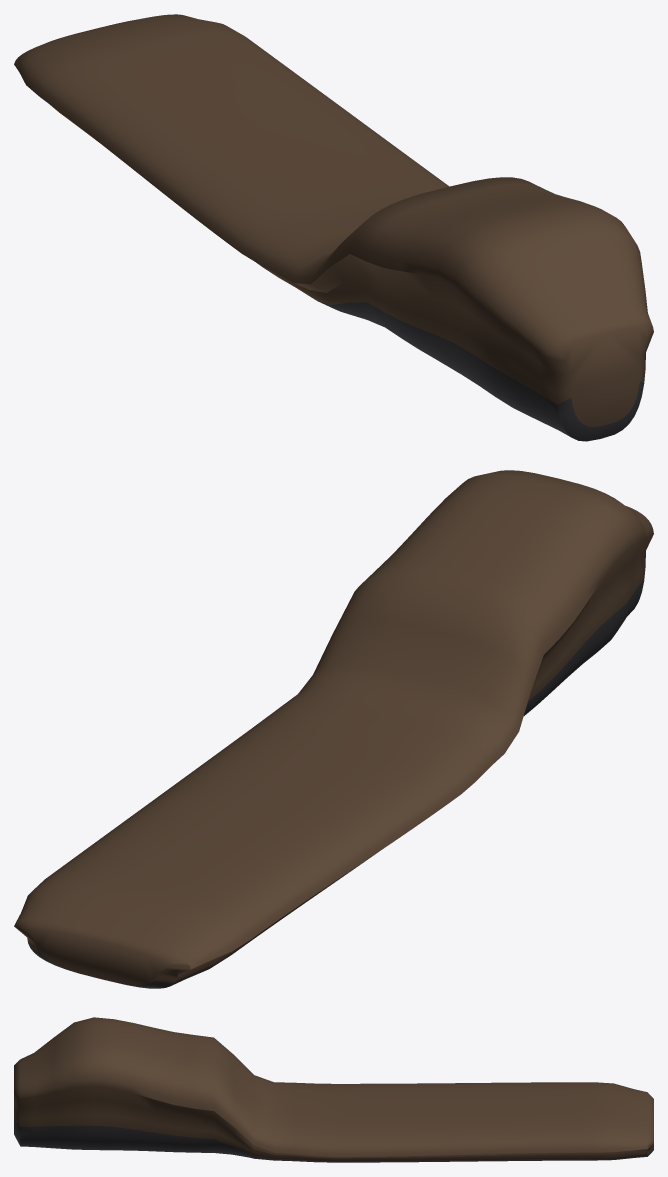
Rendered from cafe.glb.
3 renders of one model, top to bottom at view 1: azimuth 30°, elevation 25°; view 2: azimuth 150°, elevation 25°; view 3: azimuth 270°, elevation 25°, orthographic. The views are drawn at different scales.
Parts seen in each view (by area): view 1: lod0; view 2: lod0; view 3: lod0.
Boxes of the visible parts, bbox=[...] form: lod0: bbox=[14, 14, 653, 441]; lod0: bbox=[14, 470, 653, 988]; lod0: bbox=[14, 1017, 653, 1162].
Size of what is drawn, in the model's own units: 0.2493 by 0.1899 by 1.
